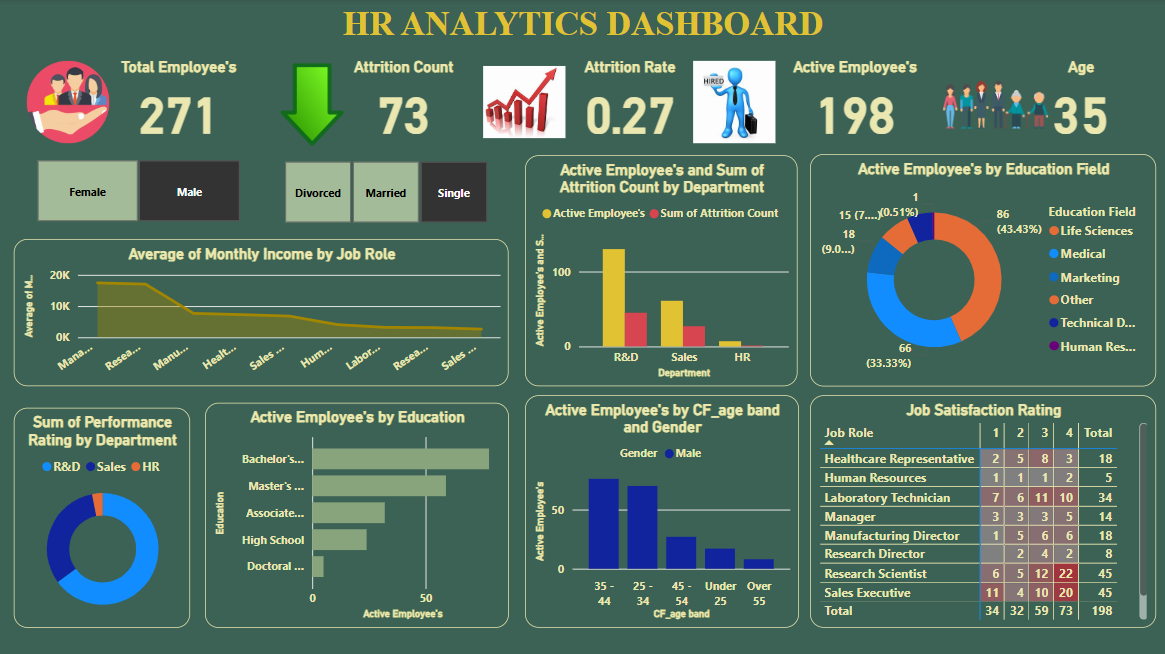

Layout of this report page (visuals, bound fields, positions):
{"tool":"powerbi","page":{"name":"Page 1","canvas":[1280,720],"ordinal":0},"visuals":[{"type":"card","title":"Total Employee''s","fields":{"Values":["Sum(HR data.Employee Count)"]},"box":[113.9,64.5,164.7,94.7],"z":0,"group":"g1"},{"type":"clusteredColumnChart","fields":{"Category":["HR data.Department"],"Y":["HR data.Active Employee's","Sum(HR data.Attrition Count)"]},"box":[576.3,171.5,299.1,253.9],"z":0},{"type":"card","title":"Attrition Rate","fields":{"Values":["HR data.Attrition Rate"]},"box":[609.3,64.5,164.7,94.7],"z":1000,"group":"g1"},{"type":"donutChart","fields":{"Y":["HR data.Active Employee's"],"Category":["HR data.Education Field"]},"box":[889.2,170.2,380.1,255.2],"z":1000},{"type":"card","title":"Attrition Count","fields":{"Values":["Sum(HR data.Attrition Count)"]},"box":[361.6,64.5,164.7,94.7],"z":2000,"group":"g1"},{"type":"columnChart","fields":{"Y":["HR data.Active Employee's"],"Category":["HR data.CF_age band"],"Series":["HR data.Gender"]},"box":[576.3,435,300.5,255.2],"z":2000},{"type":"card","title":"Active Employee''s","fields":{"Values":["HR data.Active Employee's"]},"box":[857,64.5,164.7,94.7],"z":3000,"group":"g1"},{"type":"pivotTable","title":"Job Satisfaction Rating","fields":{"Rows":["HR data.Job Role"],"Columns":["HR data.Job Satisfaction"],"Values":["HR data.Active Employee's"]},"box":[889.2,435,380.1,255.2],"z":3000},{"type":"card","title":"Age","fields":{"Values":["Avg(HR data.Age)"]},"box":[1104.6,64.5,164.7,94.7],"z":4000,"group":"g1"},{"type":"donutChart","fields":{"Y":["Sum(HR data.Performance Rating)"],"Category":["HR data.Department"]},"box":[15.1,448.7,193.5,241.5],"z":4000},{"type":"clusteredBarChart","fields":{"Category":["HR data.Education"],"Y":["HR data.Active Employee's"]},"box":[225,443.2,333.4,247],"z":5000},{"type":"areaChart","fields":{"Category":["HR data.Job Role"],"Y":["Avg(HR data.Monthly Income)"]},"box":[15.1,263.5,543.4,161.9],"z":6000},{"type":"slicer","fields":{"Values":["HR data.Gender"]},"box":[15.1,170.2,271.7,81],"z":7000},{"type":"slicer","fields":{"Values":["HR data.Marital Status"]},"box":[286.8,171.5,271.7,81],"z":8000},{"type":"group","id":"g1","title":"Group 1","box":[113.9,64.5,1155.4,94.7],"z":9000},{"type":"image","box":[756.1,63.1,100.2,100.2],"z":10000},{"type":"image","box":[24.7,63.1,100.2,100.2],"z":11000},{"type":"image","box":[292.3,65.9,100.2,100.2],"z":12000},{"type":"image","box":[525.6,63.1,100.2,100.2],"z":13000},{"type":"image","box":[1030.5,53.5,124.9,124.9],"z":14000},{"type":"textbox","box":[0,0,1280.3,53.5],"z":15000}]}

Visuals, with their boxes in screenshot pixels (x1, y1, x2, y2), scaled from the page's 1280x720 canvas onto the 1165x654 screenshot:
"Total Employee''s" card: l=104, t=59, r=254, b=145
clusteredColumnChart - HR data.Department x HR data.Active Employee's: l=525, t=156, r=797, b=386
"Attrition Rate" card: l=555, t=59, r=704, b=145
donutChart - HR data.Active Employee's x HR data.Education Field: l=809, t=155, r=1155, b=386
"Attrition Count" card: l=329, t=59, r=479, b=145
columnChart - HR data.Active Employee's x HR data.CF_age band: l=525, t=395, r=798, b=627
"Active Employee''s" card: l=780, t=59, r=930, b=145
"Job Satisfaction Rating" pivotTable: l=809, t=395, r=1155, b=627
"Age" card: l=1005, t=59, r=1155, b=145
donutChart - Sum(HR data.Performance Rating) x HR data.Department: l=14, t=408, r=190, b=627
clusteredBarChart - HR data.Education x HR data.Active Employee's: l=205, t=403, r=508, b=627
areaChart - HR data.Job Role x Avg(HR data.Monthly Income): l=14, t=239, r=508, b=386
slicer - HR data.Gender: l=14, t=155, r=261, b=228
slicer - HR data.Marital Status: l=261, t=156, r=508, b=229
"Group 1" group: l=104, t=59, r=1155, b=145
image: l=688, t=57, r=779, b=148
image: l=22, t=57, r=114, b=148
image: l=266, t=60, r=357, b=151
image: l=478, t=57, r=570, b=148
image: l=938, t=49, r=1052, b=162
textbox: l=0, t=0, r=1164, b=49
